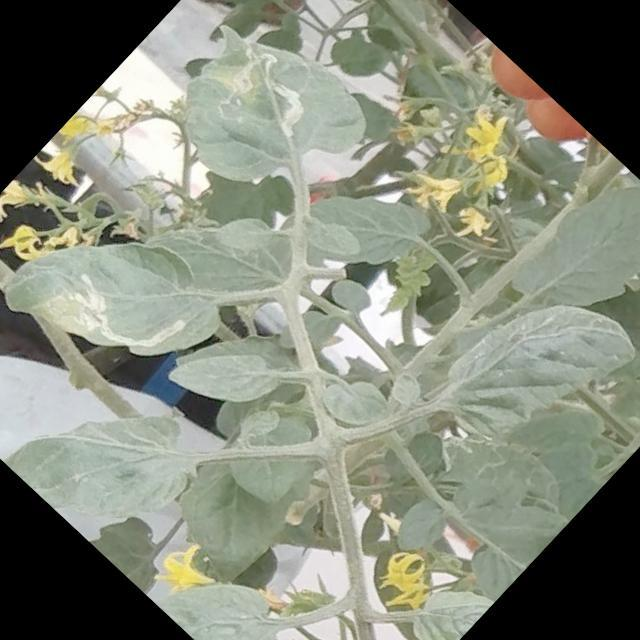Tomato target spot leaf: (0, 181, 235, 423), (143, 0, 384, 233), (590, 220, 640, 402)
